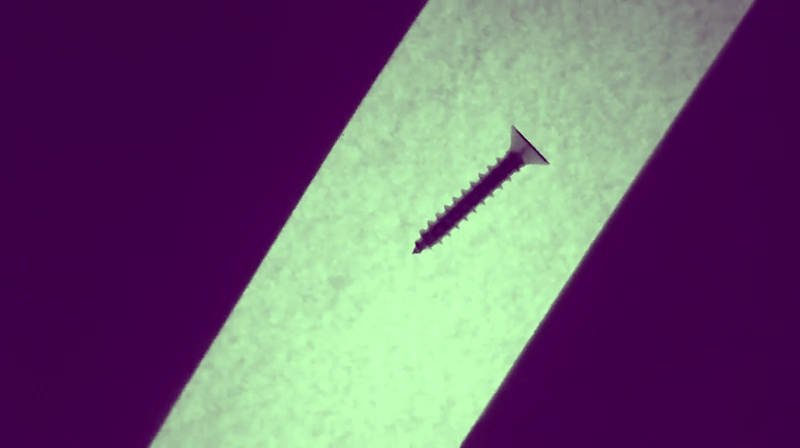S001: (406, 122, 556, 259)
